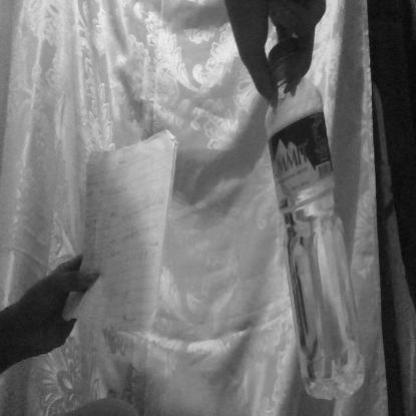Plastic Bottle: (239, 31, 376, 404)
